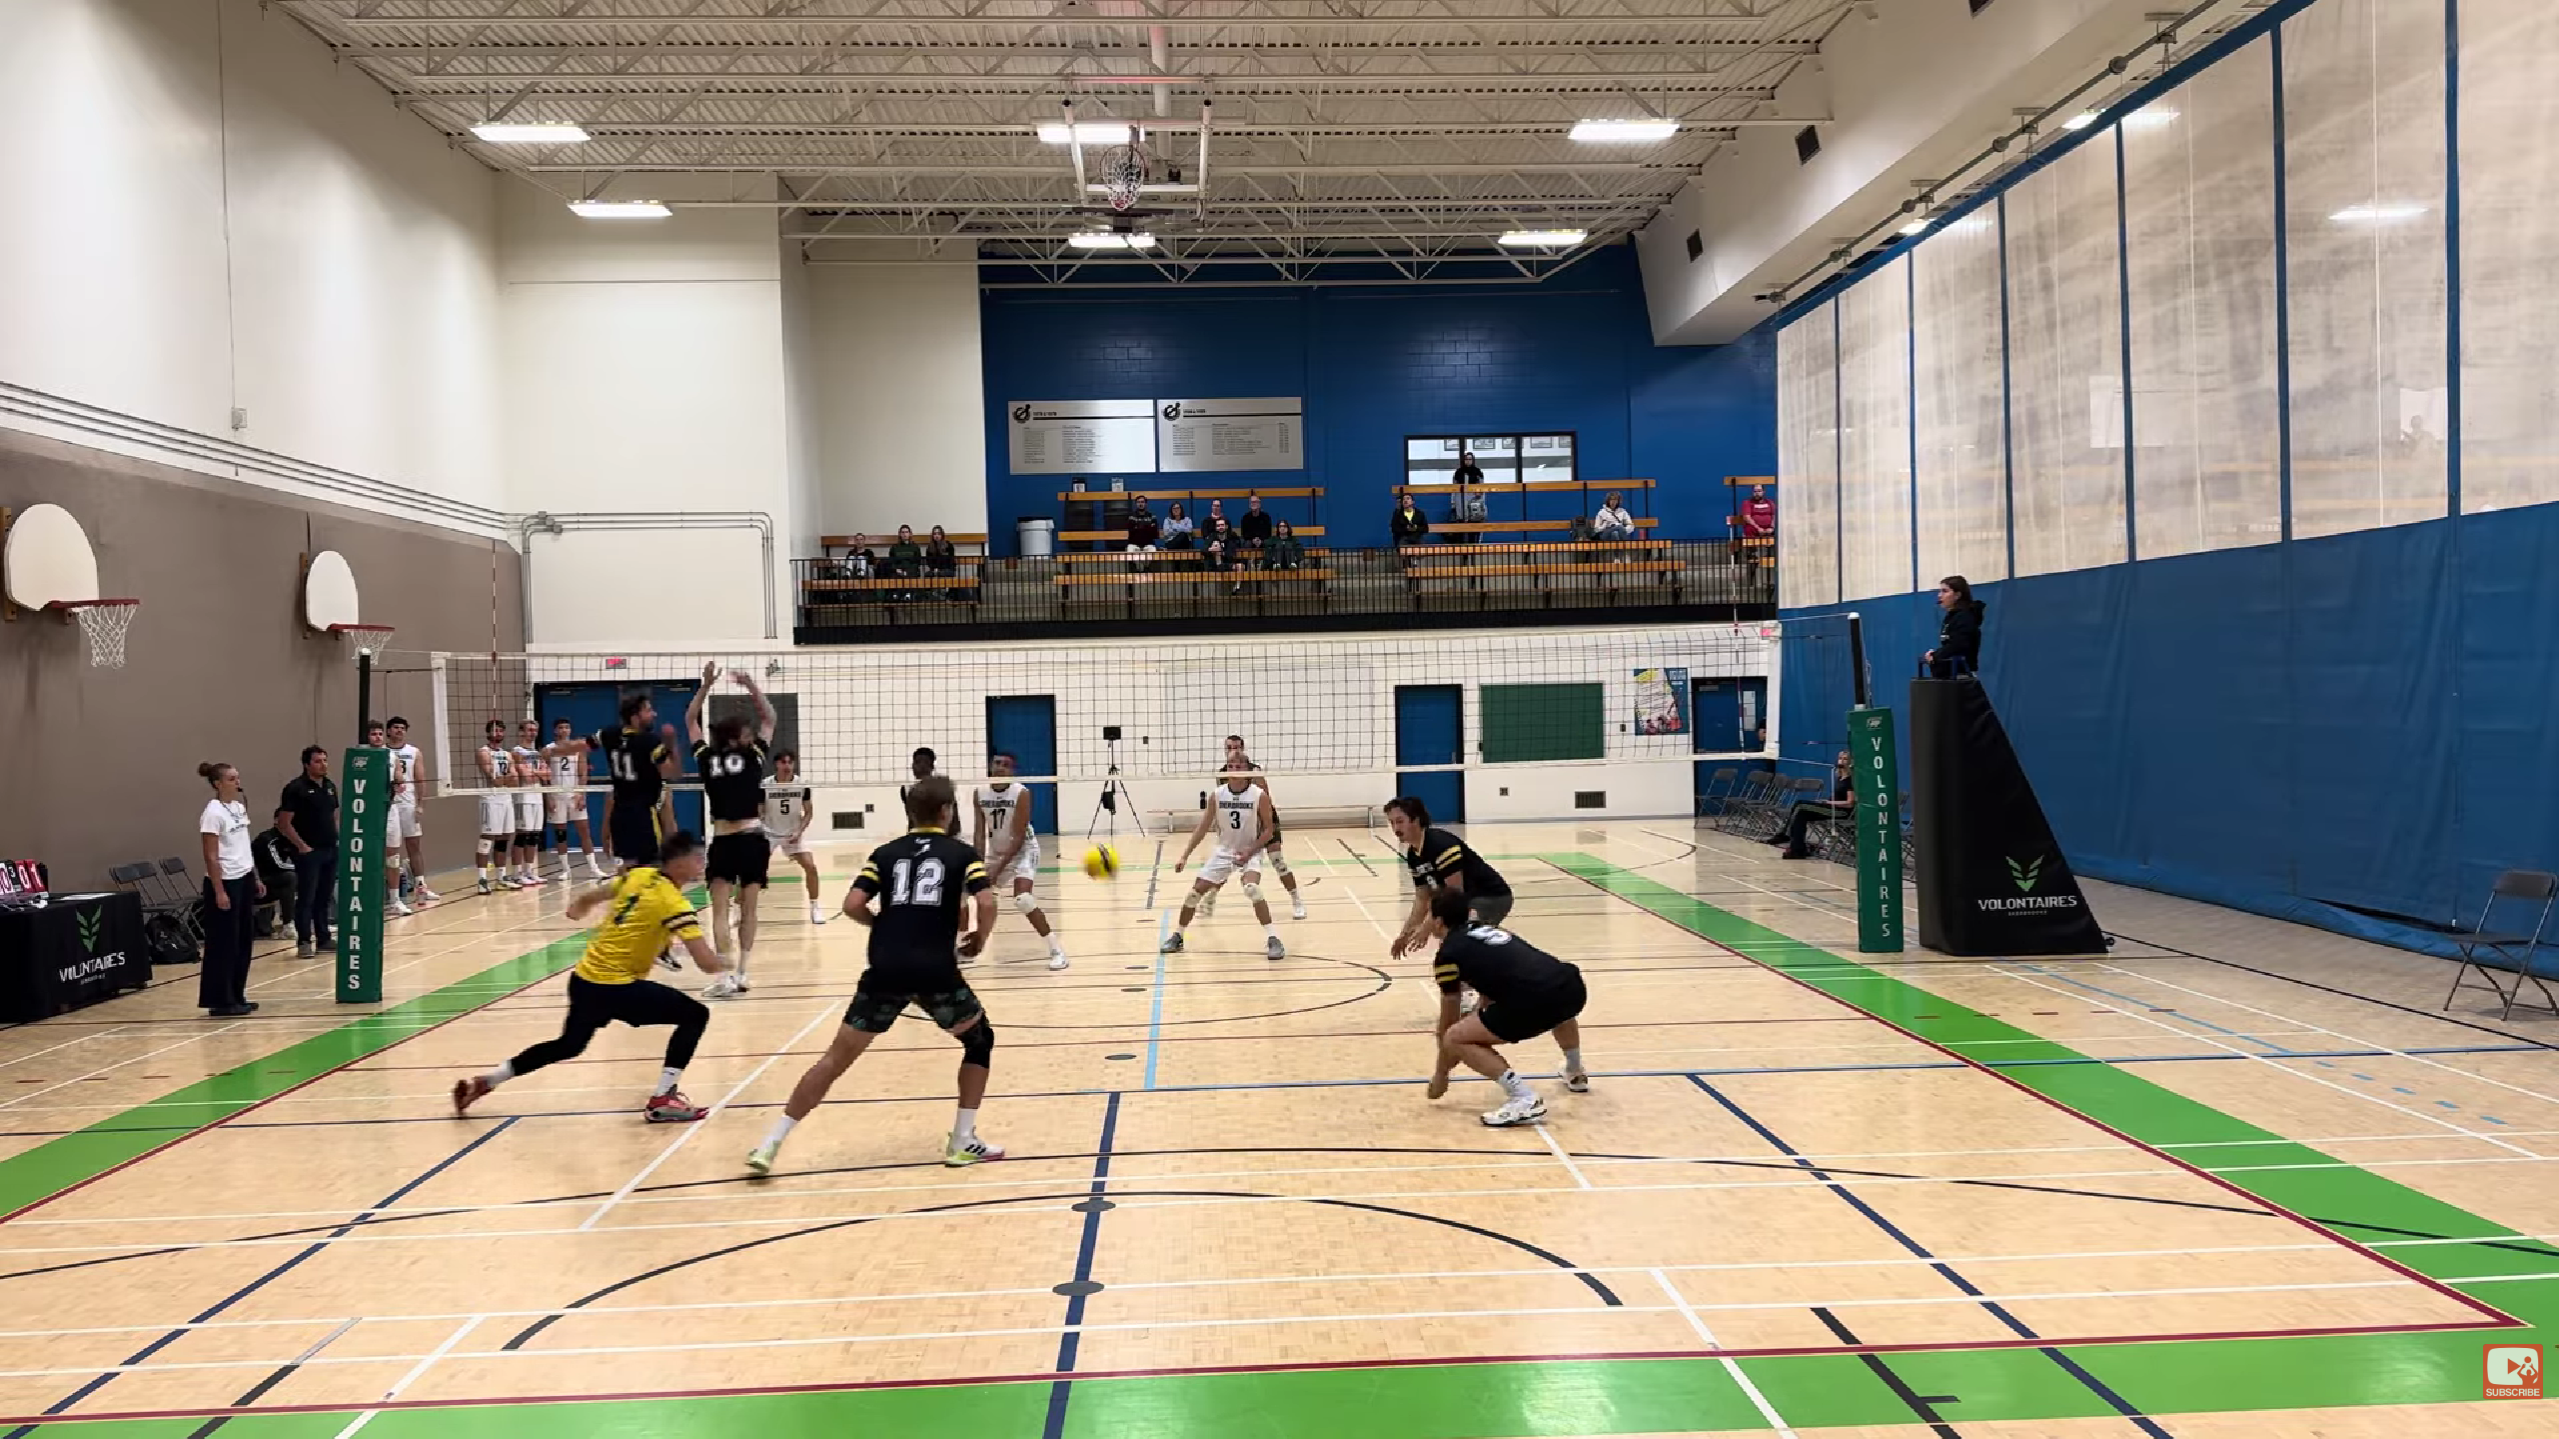Ball: (1081, 842, 1121, 880)
